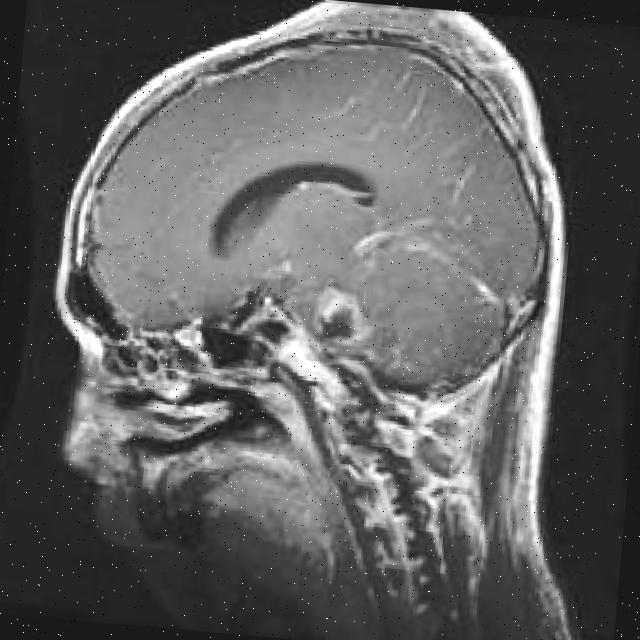LMCI: (240, 142, 414, 236), (316, 282, 455, 369)
